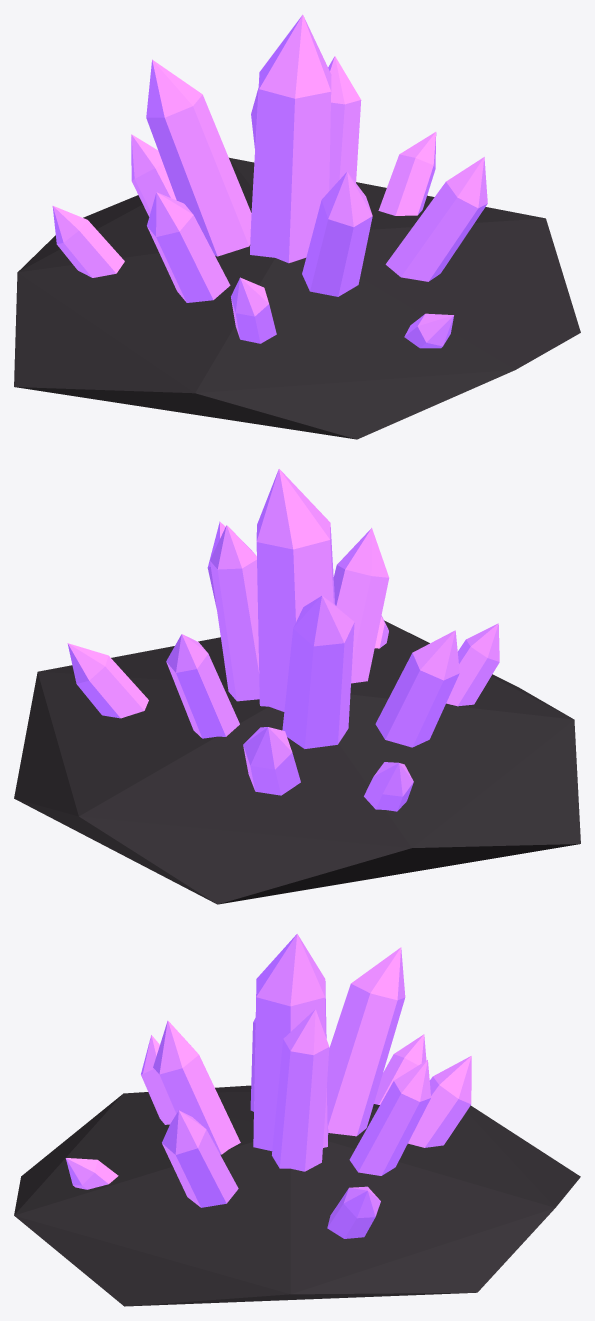
Rendered from cristal_1.gltf.
The picture shows the model from 3 angles, top to bottom: view 1: azimuth 30°, elevation 25°; view 2: azimuth 150°, elevation 25°; view 3: azimuth 270°, elevation 25°; orthographic projection. The views are drawn at different scales.
Visible parts, largest first — view 1: Socle, Cristal; view 2: Socle, Cristal; view 3: Socle, Cristal.
Part boxes in pixels (left/top/right/bottom): Socle: left=14, top=157, right=580, bottom=439; Cristal: left=52, top=14, right=487, bottom=348; Socle: left=14, top=620, right=580, bottom=904; Cristal: left=67, top=469, right=499, bottom=811; Socle: left=14, top=1085, right=580, bottom=1306; Cristal: left=65, top=934, right=471, bottom=1238.
Bounding box in the file's own units: 1.86 × 0.9982 × 1.79.
